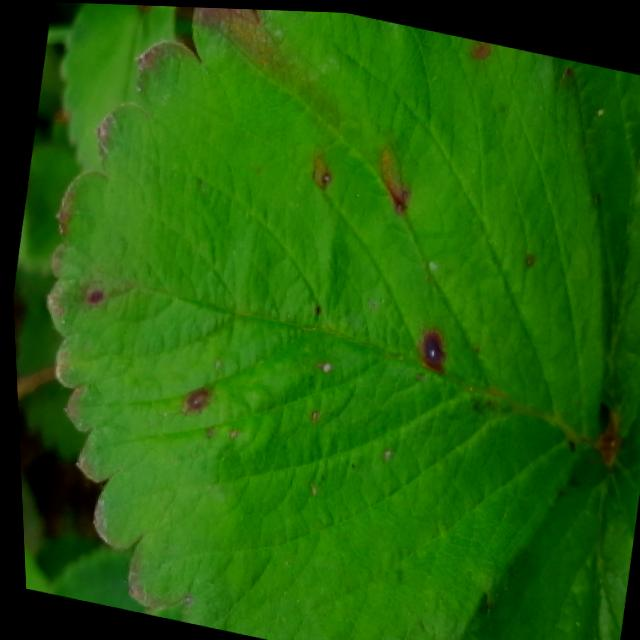Leaf Spot: (42, 6, 603, 640), (451, 389, 640, 640), (553, 52, 640, 423), (55, 2, 177, 169)
